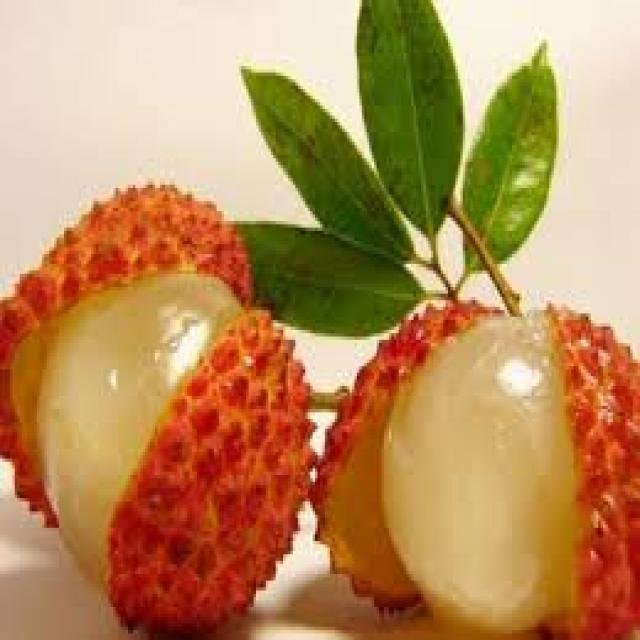organic waste: (0, 178, 249, 525), (101, 304, 313, 636), (32, 264, 234, 590), (377, 313, 571, 637), (310, 294, 505, 614), (239, 62, 416, 260), (536, 300, 638, 637), (354, 0, 460, 241), (226, 218, 421, 333), (461, 40, 556, 267)
